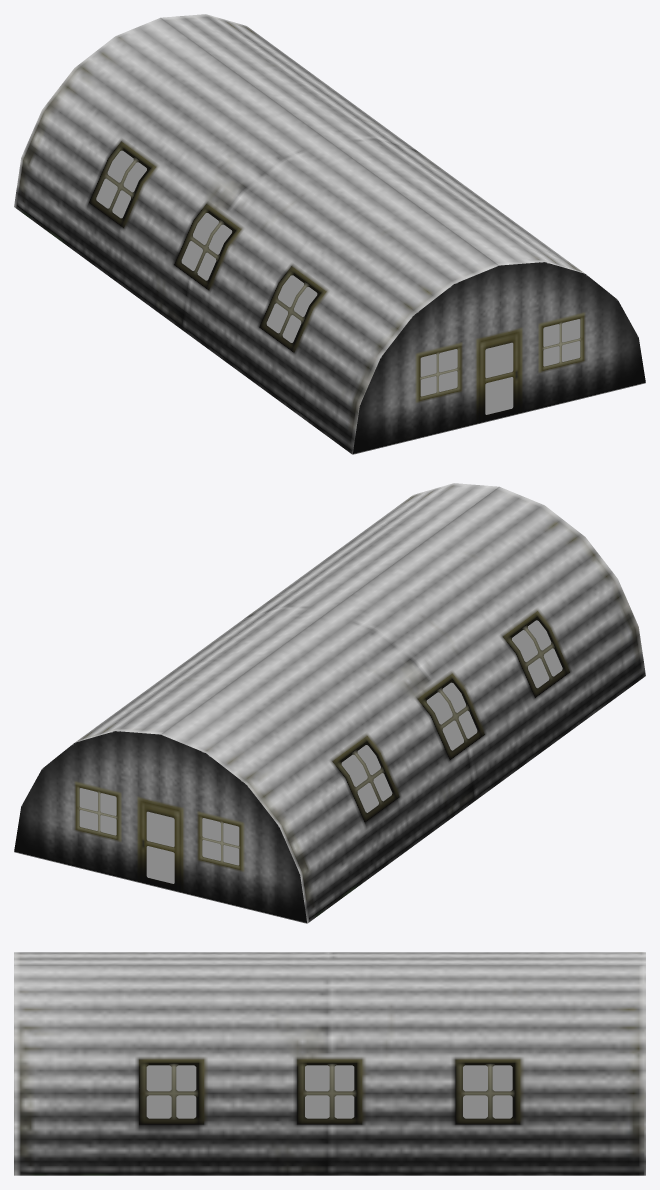
File: quonsetclean.glb
3 renders of one model, top to bottom at view 1: azimuth 30°, elevation 25°; view 2: azimuth 150°, elevation 25°; view 3: azimuth 270°, elevation 25°, orthographic. The views are drawn at different scales.
Parts seen in each view (by area): view 1: Quonset hut, LitWin_Quonset; view 2: Quonset hut, LitWin_Quonset; view 3: Quonset hut, LitWin_Quonset.
Part boxes in pixels (bbox=[...]): Quonset hut: bbox=[14, 14, 645, 454]; LitWin_Quonset: bbox=[96, 150, 580, 414]; Quonset hut: bbox=[14, 483, 645, 923]; LitWin_Quonset: bbox=[79, 620, 562, 883]; Quonset hut: bbox=[14, 952, 645, 1175]; LitWin_Quonset: bbox=[146, 1065, 512, 1118].
Bounding box in the file's own units: 8.42 × 4.21 × 16.85.
1 material, 1 textured.
